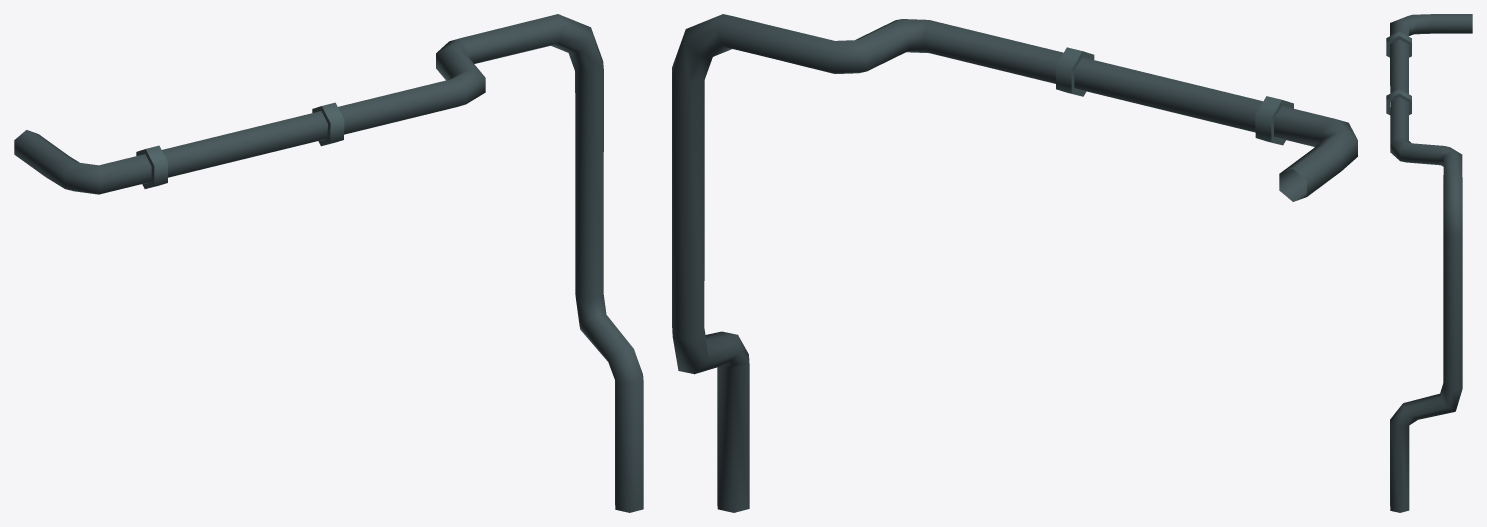
File: SM_Pipe_02.fbx
3 views of the same model, side by side, from view 1: azimuth 30°, elevation 25°; view 2: azimuth 150°, elevation 25°; view 3: azimuth 270°, elevation 25° (orthographic). The views are drawn at different scales.
Visible parts, largest first — view 1: SM_Pipe_02; view 2: SM_Pipe_02; view 3: SM_Pipe_02.
Boxes of the visible parts, x1=… form: SM_Pipe_02: x1=14, y1=14, x2=643, y2=512; SM_Pipe_02: x1=672, y1=14, x2=1357, y2=512; SM_Pipe_02: x1=1386, y1=14, x2=1472, y2=512.
Size of the model in its own units: 446 by 353 by 86.65.
1 material, 1 textured.
